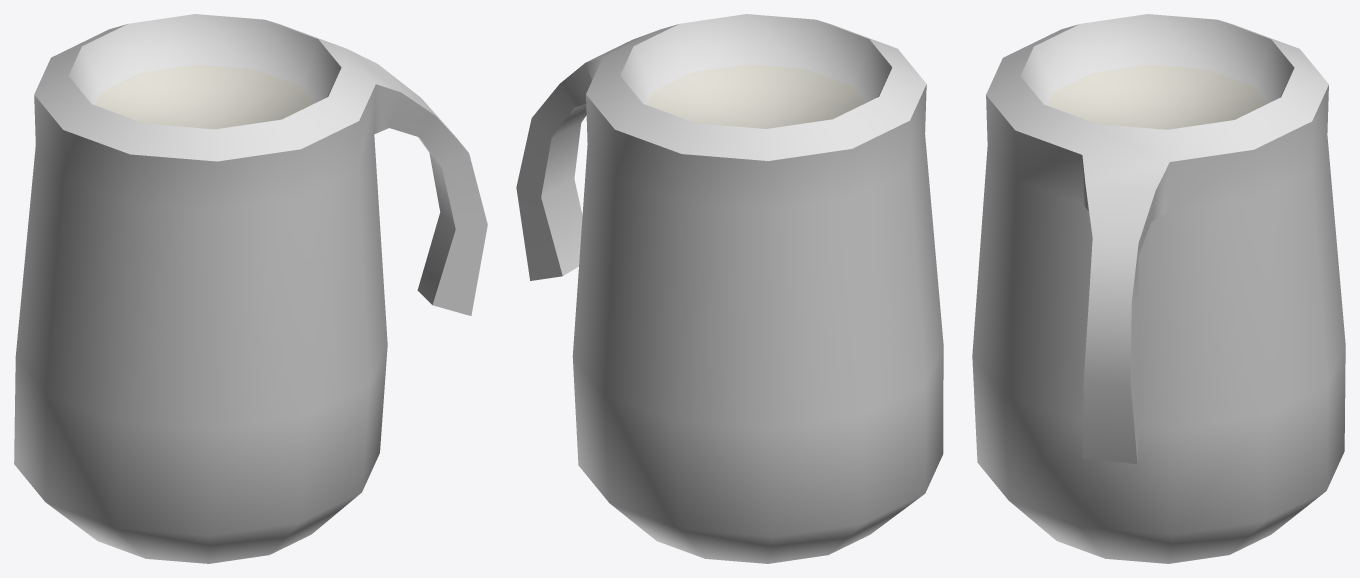
File: PT_Pot_27.fbx
3 views of the same model, side by side, from view 1: azimuth 30°, elevation 25°; view 2: azimuth 150°, elevation 25°; view 3: azimuth 270°, elevation 25° (orthographic).
Visible parts, largest first — view 1: PT_Pot_27; view 2: PT_Pot_27; view 3: PT_Pot_27.
Boxes of the visible parts, x1,y1,x2,y2 form: PT_Pot_27: (14,14,487,563); PT_Pot_27: (516,14,943,563); PT_Pot_27: (972,14,1345,563).
Bounding box in the file's own units: 14.06 × 14.34 × 10.82.
Materials: 1 (1 with a texture image).
